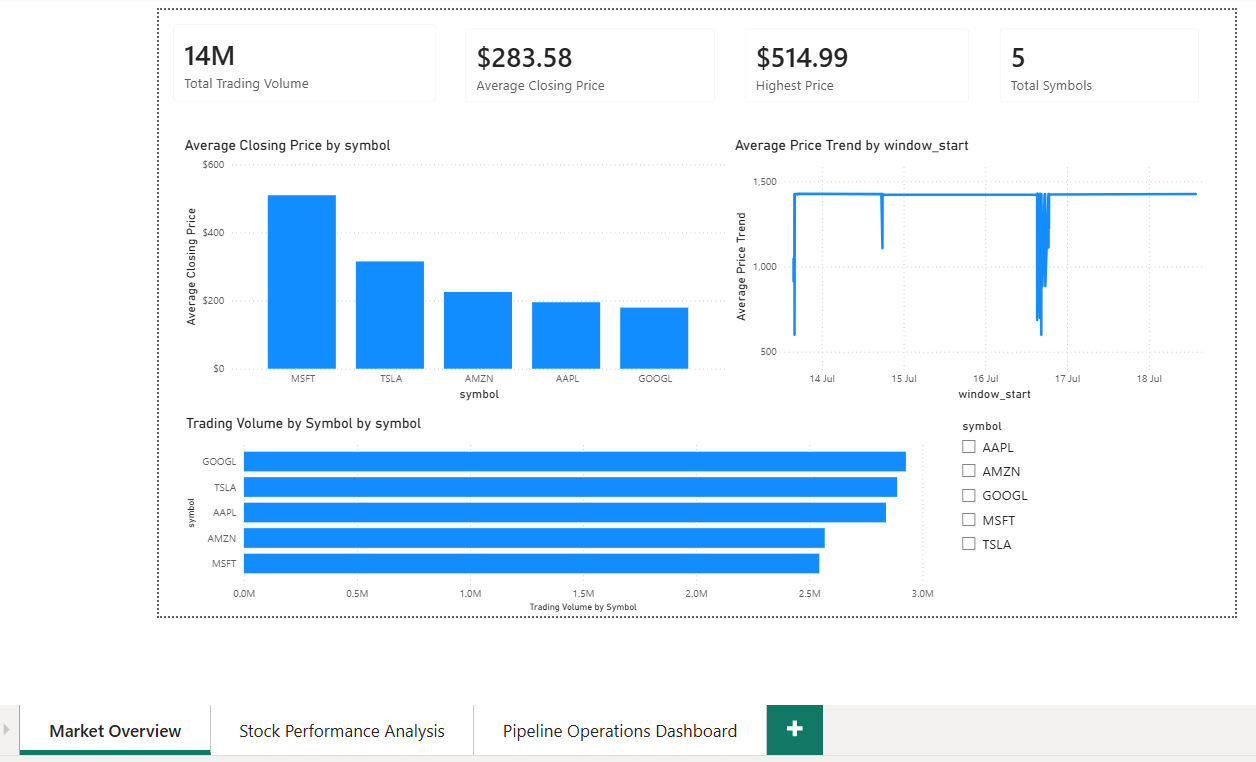

The dashboard page shown, as its layout file describes it:
{"tool":"powerbi","page":{"name":"Market Overview","canvas":[1280,720],"ordinal":0},"visuals":[{"type":"cardVisual","fields":{"Data":["gold stock_metrics_1min.Total Trading Volume"]},"box":[0,0,347.6,127],"z":0},{"type":"cardVisual","fields":{"Data":["gold stock_metrics_1min.Average Closing Price"]},"box":[347.6,4.8,331.7,122.2],"z":1000},{"type":"cardVisual","fields":{"Data":["gold stock_metrics_1min.Highest Price"]},"box":[679.4,4.8,301.6,122.2],"z":2000},{"type":"cardVisual","fields":{"Data":["gold stock_metrics_1min.Total Symbols"]},"box":[982.5,4.8,271.4,122.2],"z":3000},{"type":"clusteredColumnChart","fields":{"Category":["gold stock_metrics_1min.symbol"],"Y":["gold stock_metrics_1min.Average Closing Price"]},"box":[25.4,150.8,654,319],"z":4000},{"type":"clusteredBarChart","fields":{"Category":["gold stock_metrics_1min.symbol"],"Y":["Sum(gold stock_metrics_1min.total_volume)"]},"box":[27,481,900,239.7],"z":5000},{"type":"lineChart","fields":{"Y":["Sum(gold stock_metrics_1min.average_price)"],"Category":["gold stock_metrics_1min.window_start"]},"box":[679.4,150.8,574.6,319],"z":6000},{"type":"slicer","fields":{"Values":["gold stock_metrics_1min.symbol"]},"box":[942.9,481,336.5,239.7],"z":7000}]}

Visuals, with their boxes on the page's 1280x720 design canvas (x1, y1, x2, y2). These are canvas units, not pixel positions in the 1256x762 screenshot, which may show the page scaled, cropped or inside an application window:
cardVisual - gold stock_metrics_1min.Total Trading Volume: detection(0, 0, 348, 127)
cardVisual - gold stock_metrics_1min.Average Closing Price: detection(348, 5, 679, 127)
cardVisual - gold stock_metrics_1min.Highest Price: detection(679, 5, 981, 127)
cardVisual - gold stock_metrics_1min.Total Symbols: detection(982, 5, 1254, 127)
clusteredColumnChart - gold stock_metrics_1min.symbol x gold stock_metrics_1min.Average Closing Price: detection(25, 151, 679, 470)
clusteredBarChart - gold stock_metrics_1min.symbol x Sum(gold stock_metrics_1min.total_volume): detection(27, 481, 927, 721)
lineChart - Sum(gold stock_metrics_1min.average_price) x gold stock_metrics_1min.window_start: detection(679, 151, 1254, 470)
slicer - gold stock_metrics_1min.symbol: detection(943, 481, 1279, 721)
